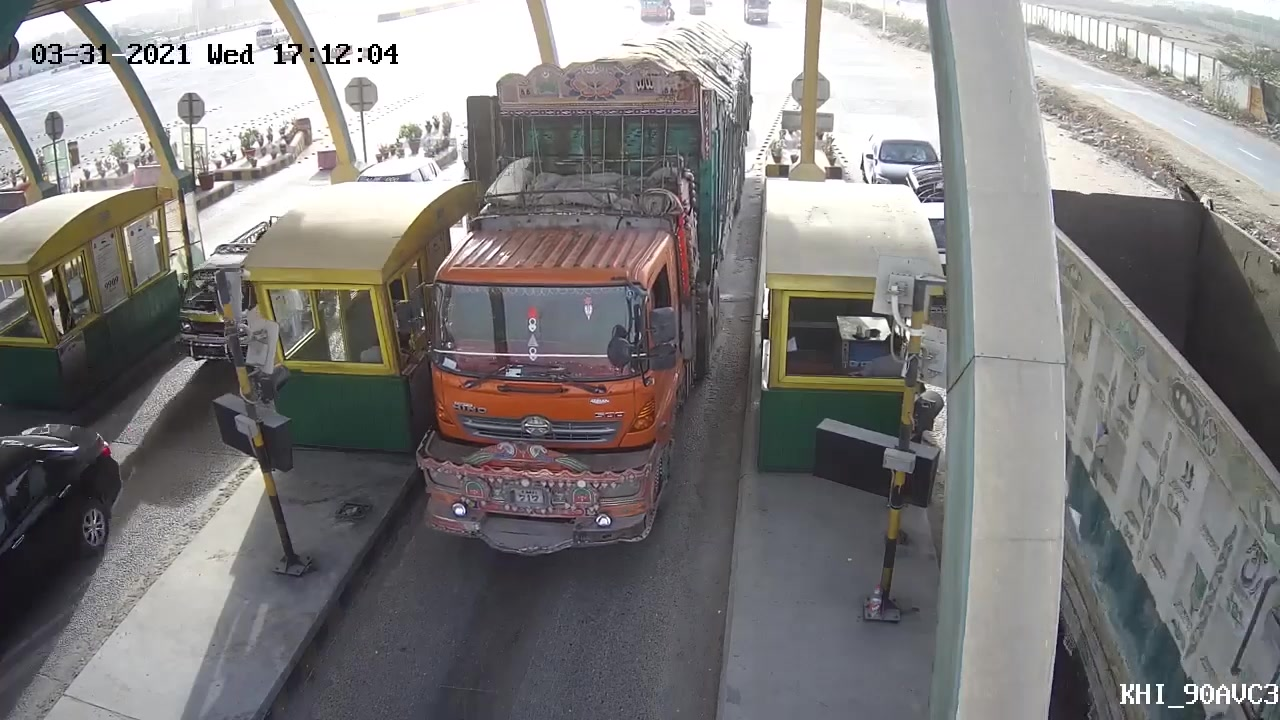F6: (389, 26, 760, 588)
